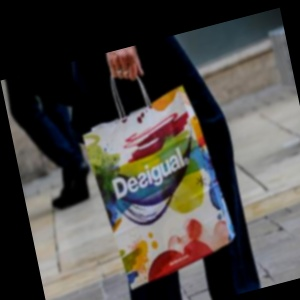desigual: (135, 81, 240, 212)
